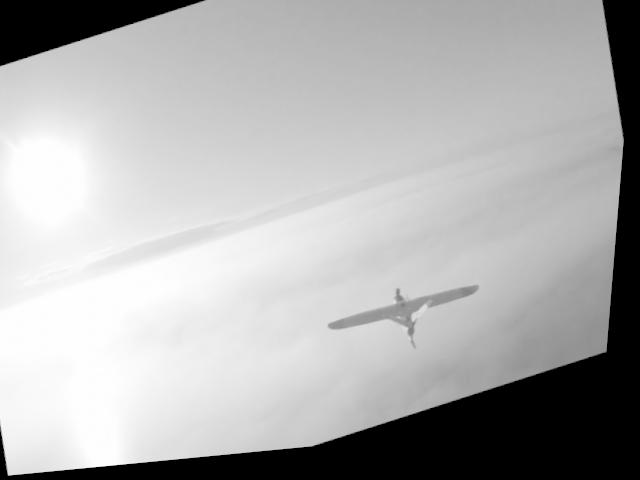hedef: (323, 266, 500, 378)
